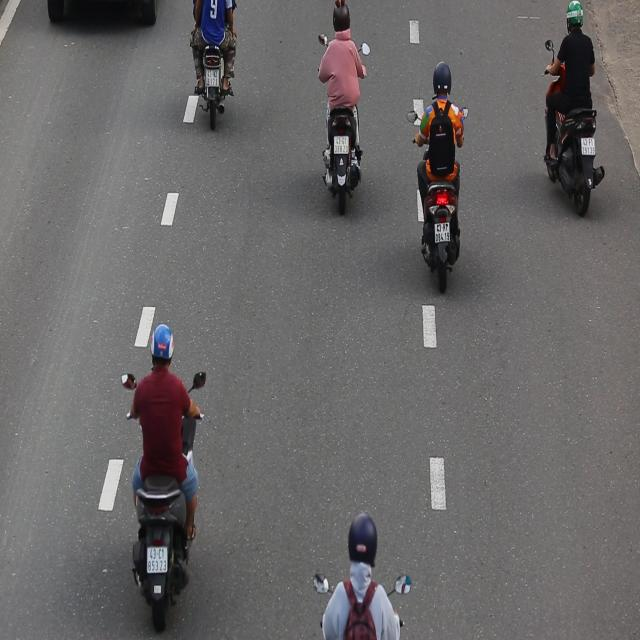motorbike: (115, 304, 207, 636), (405, 49, 475, 296), (542, 0, 607, 223), (322, 1, 374, 218)
